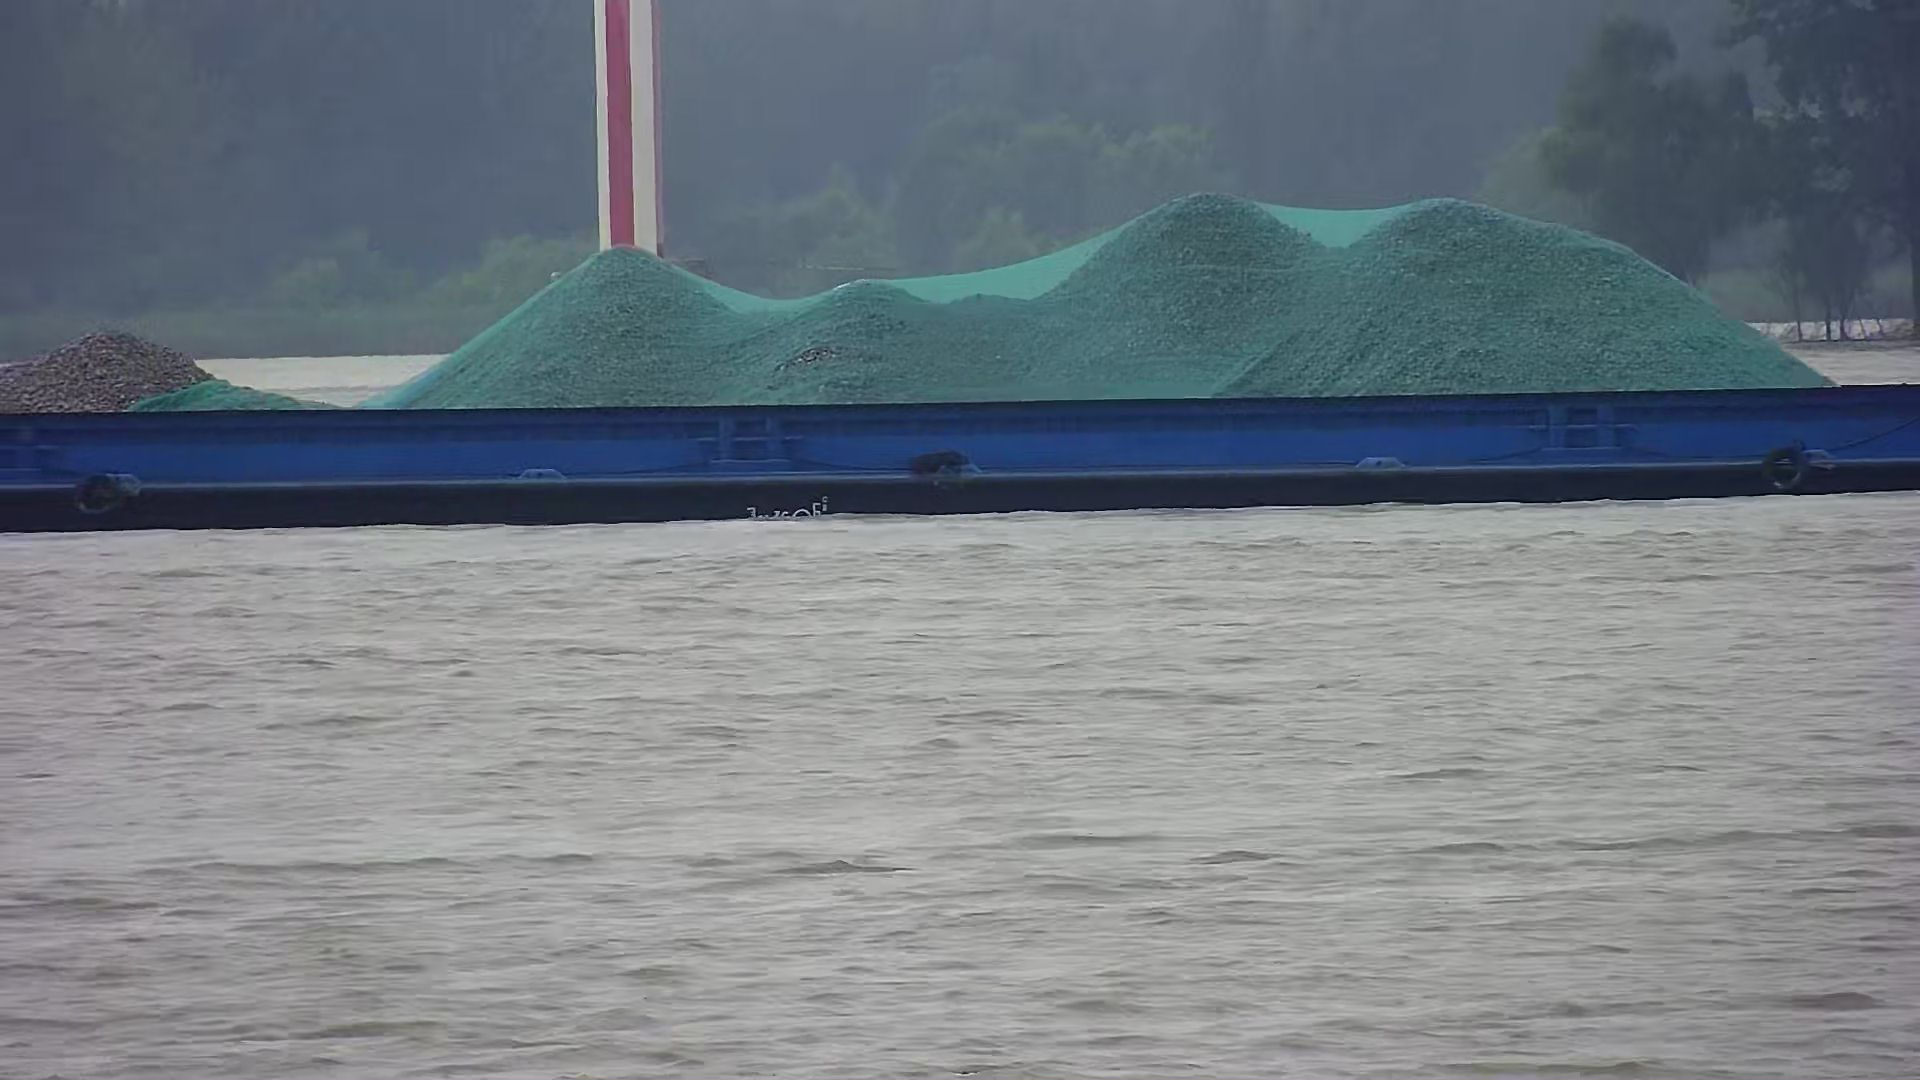ship: (5, 187, 1920, 530)
tree: (1755, 7, 1920, 342)
